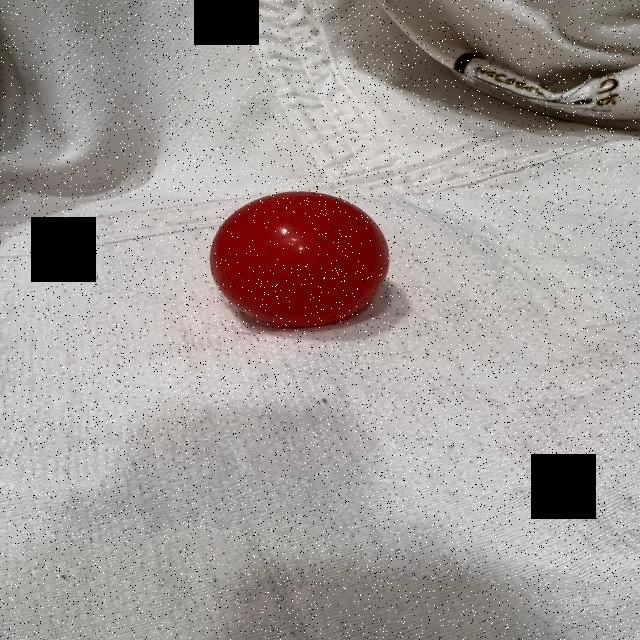ball: (205, 187, 394, 329)
